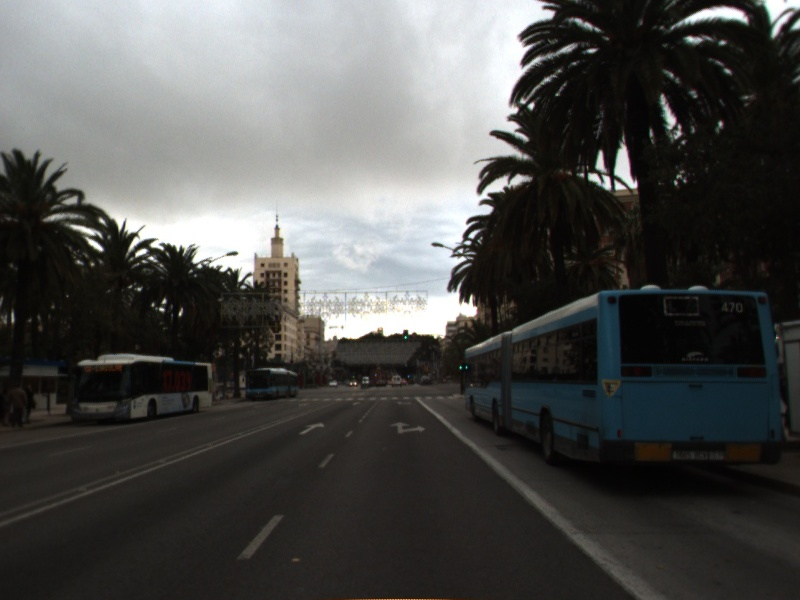STRAIGHT: (296, 420, 327, 437)
STRAIGHT_RIGHT: (388, 420, 428, 436)
